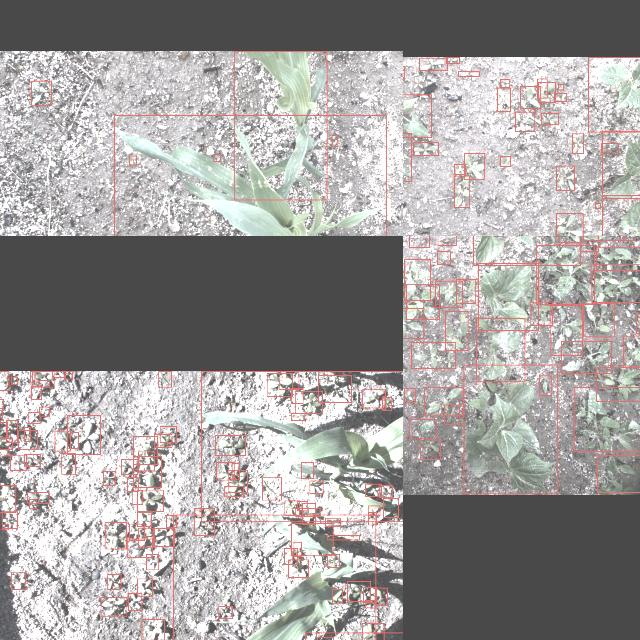crop: (114, 114, 386, 236), (201, 370, 403, 521), (172, 514, 375, 640), (234, 50, 326, 200), (464, 364, 558, 494), (478, 262, 538, 330), (589, 56, 640, 131), (476, 317, 526, 381), (473, 236, 580, 264), (602, 130, 640, 198), (602, 194, 640, 236), (403, 93, 431, 136)
weed: (574, 387, 640, 451), (536, 244, 594, 304), (592, 264, 640, 302), (550, 305, 582, 355), (561, 341, 611, 373), (597, 455, 640, 492), (596, 367, 640, 401), (68, 414, 100, 454), (292, 523, 332, 555), (410, 342, 456, 368), (406, 284, 439, 318), (424, 387, 464, 415), (404, 258, 430, 300), (596, 246, 640, 270), (584, 304, 614, 336), (318, 374, 352, 402), (446, 310, 468, 350), (133, 456, 161, 486), (435, 280, 463, 306), (133, 436, 157, 464), (403, 308, 424, 338), (556, 213, 583, 236), (215, 435, 245, 455), (268, 372, 292, 396), (105, 522, 127, 548), (137, 489, 163, 511), (296, 390, 322, 412), (531, 301, 553, 325), (623, 335, 640, 366), (464, 152, 484, 178), (101, 596, 127, 616), (194, 508, 214, 534), (410, 419, 436, 439), (454, 175, 470, 207), (142, 618, 164, 640), (31, 80, 51, 104), (128, 538, 152, 558), (456, 279, 476, 303), (520, 86, 540, 108), (228, 470, 248, 492), (348, 581, 370, 601), (262, 477, 282, 499), (557, 166, 575, 190), (0, 484, 16, 511), (362, 389, 386, 407), (515, 111, 535, 131), (420, 439, 440, 459), (18, 429, 38, 448), (362, 622, 383, 640), (538, 81, 556, 101), (154, 528, 174, 546), (288, 559, 308, 577), (32, 370, 54, 386), (420, 57, 448, 69), (217, 461, 235, 479), (280, 370, 298, 388), (55, 430, 71, 450), (444, 404, 460, 424), (302, 502, 316, 524), (138, 452, 154, 471), (62, 452, 76, 473), (414, 142, 438, 154), (498, 87, 510, 111), (138, 528, 154, 546), (160, 425, 177, 441), (6, 420, 18, 442), (2, 512, 18, 528), (10, 454, 26, 470), (122, 458, 138, 474), (12, 571, 26, 589), (138, 578, 152, 596), (128, 592, 142, 610), (384, 498, 398, 516), (580, 236, 598, 250), (572, 133, 584, 153), (540, 375, 552, 395), (130, 523, 144, 539), (158, 370, 172, 386), (284, 500, 300, 514), (284, 548, 298, 564), (300, 461, 314, 477), (365, 482, 381, 496), (409, 236, 429, 247), (541, 112, 559, 124), (154, 434, 172, 446), (28, 492, 48, 502), (326, 534, 359, 540), (137, 512, 151, 526), (24, 453, 40, 465), (146, 553, 158, 569), (103, 470, 115, 486), (296, 508, 320, 516), (364, 586, 376, 602), (375, 588, 387, 604), (537, 77, 547, 96), (224, 486, 243, 496), (0, 370, 9, 390), (108, 574, 120, 588), (291, 388, 303, 402), (378, 485, 392, 497), (219, 606, 233, 618), (404, 388, 416, 402), (438, 250, 450, 264), (602, 142, 618, 152), (332, 588, 342, 604), (310, 481, 322, 494), (0, 437, 12, 449), (0, 437, 8, 455), (328, 554, 340, 566), (438, 236, 456, 244), (166, 514, 176, 528), (128, 477, 138, 491), (133, 490, 143, 504), (382, 396, 392, 409), (71, 431, 79, 447), (232, 462, 240, 478), (458, 70, 479, 76), (454, 164, 466, 174), (28, 412, 40, 422), (31, 386, 41, 398), (368, 505, 380, 515), (368, 512, 378, 524), (0, 421, 7, 437), (294, 542, 302, 556), (291, 412, 305, 420), (326, 518, 340, 526), (555, 92, 567, 101), (501, 156, 511, 166), (40, 406, 50, 416), (297, 500, 307, 510), (24, 427, 30, 441), (500, 79, 510, 87), (365, 600, 375, 608), (636, 312, 640, 332), (446, 56, 459, 62), (39, 379, 50, 386), (53, 370, 65, 376), (29, 498, 36, 508), (332, 134, 336, 146), (130, 156, 136, 164), (11, 376, 17, 384), (66, 370, 72, 378), (382, 396, 386, 408), (317, 637, 333, 640), (30, 371, 34, 382), (213, 154, 220, 160), (558, 83, 564, 89), (2, 523, 8, 529), (0, 398, 3, 409), (0, 406, 2, 419), (596, 204, 600, 208)
